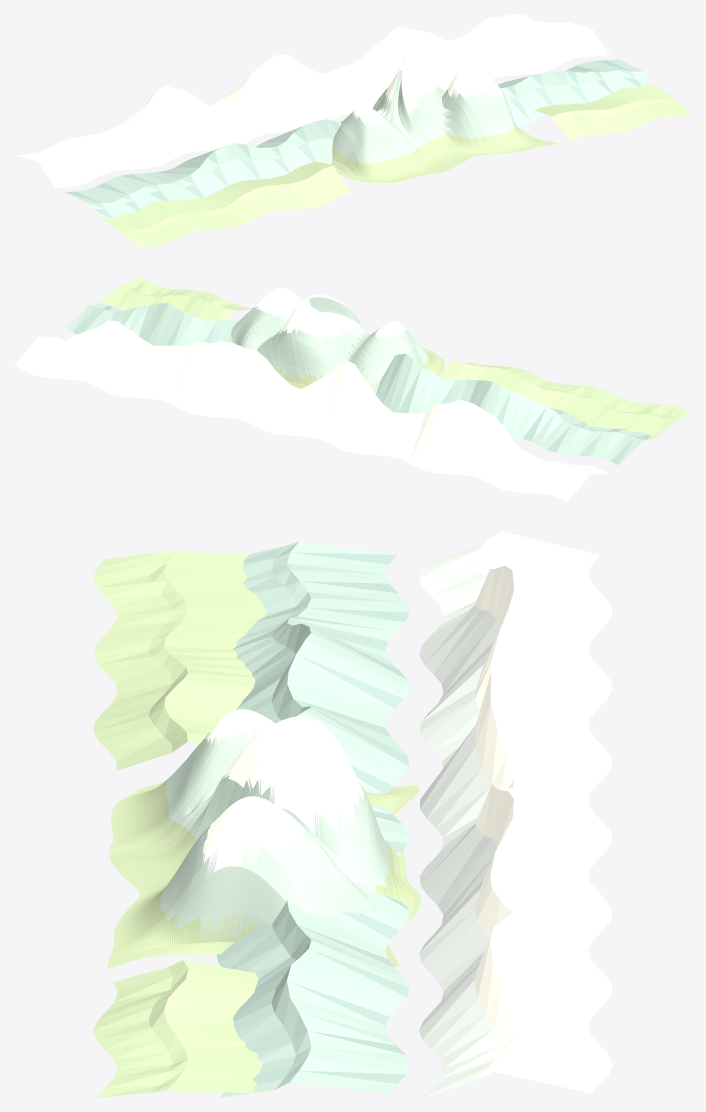
The model's file is painted-hills.glb.
The picture shows the model from 3 angles, top to bottom: view 1: azimuth 30°, elevation 25°; view 2: azimuth 150°, elevation 25°; view 3: azimuth 270°, elevation 25°; orthographic projection. The views are drawn at different scales.
Parts seen in each view (by area): view 1: SM_NorthernRidge_0, SM_LakesideAlps, SM_NorthernRidge_1, SM_NorthernRidge_2; view 2: SM_NorthernRidge_0, SM_NorthernRidge_1, SM_LakesideAlps, SM_NorthernRidge_2; view 3: SM_NorthernRidge_0, SM_NorthernRidge_1, SM_LakesideAlps, SM_NorthernRidge_2.
Part boxes in pixels (x1,y1,x2,y2): SM_NorthernRidge_0: (15,14,609,188); SM_LakesideAlps: (331,52,559,182); SM_NorthernRidge_1: (65,59,652,225); SM_NorthernRidge_2: (96,84,691,247); SM_NorthernRidge_0: (14,320,609,502); SM_NorthernRidge_1: (65,303,660,464); SM_LakesideAlps: (231,287,444,389); SM_NorthernRidge_2: (99,276,691,442); SM_NorthernRidge_0: (419,531,612,1097); SM_NorthernRidge_1: (216,541,409,1097); SM_LakesideAlps: (107,709,420,969); SM_NorthernRidge_2: (93,551,267,1097).
Bounding box in the file's own units: 414 × 55.47 × 169.
